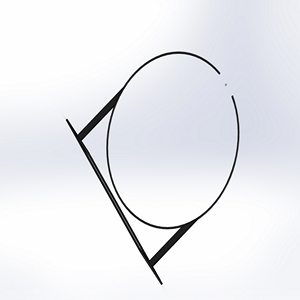circle: (64, 50, 240, 284)
